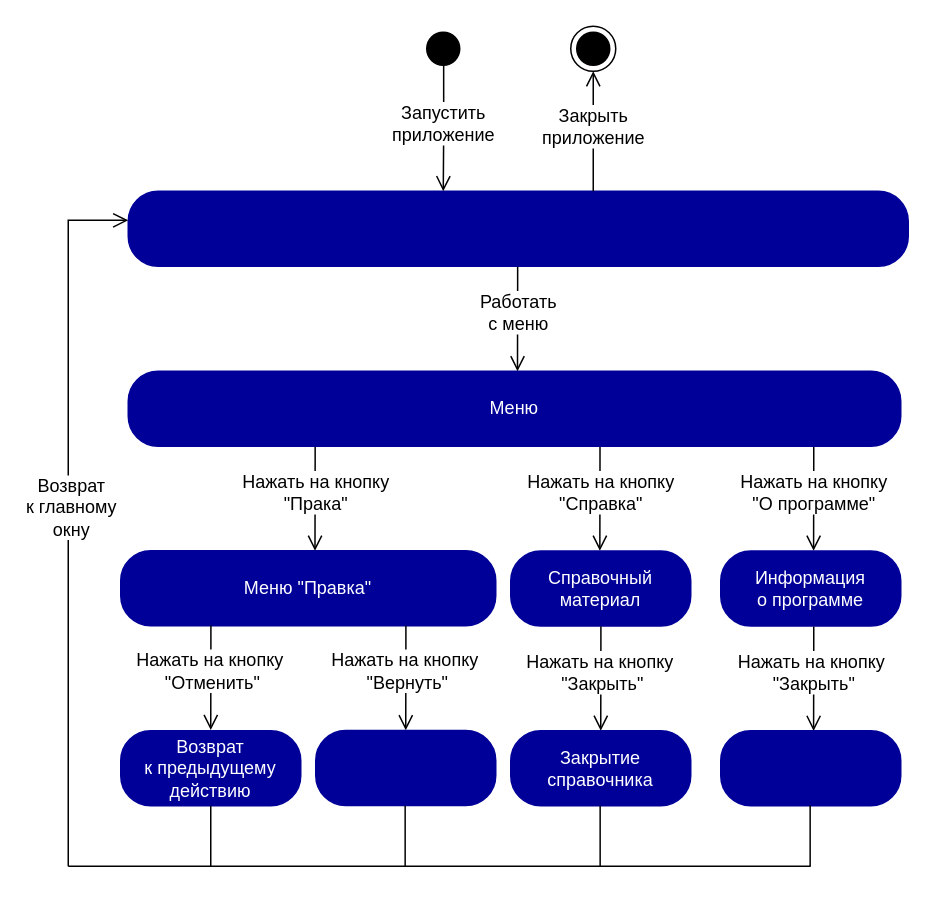
Image size: 935x908. Some labels were removed from this diagram. The shapes that lost their labels are listed below. From the top down, each one's box as (x1, y1, x2, y2) in pixels, then its label:
(127, 190, 908, 266): Главное окно
(314, 729, 496, 806): Возврат к следующему действию
(719, 729, 901, 806): Закрытие информации о программе
